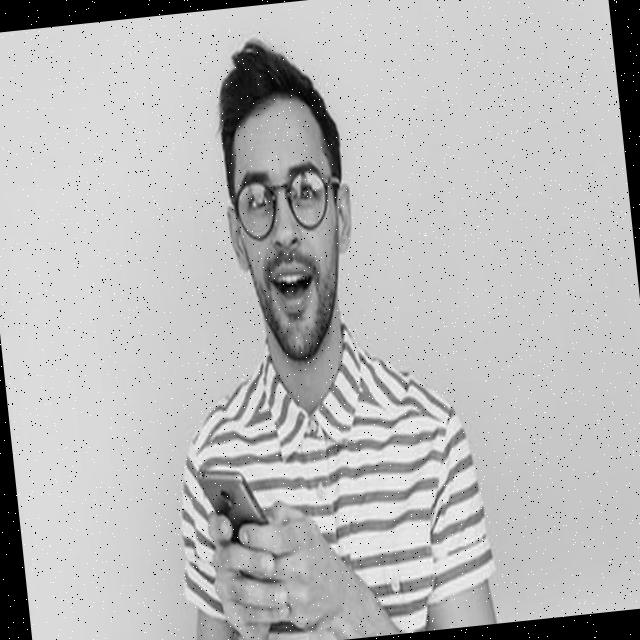Surprised: (226, 92, 352, 368)
